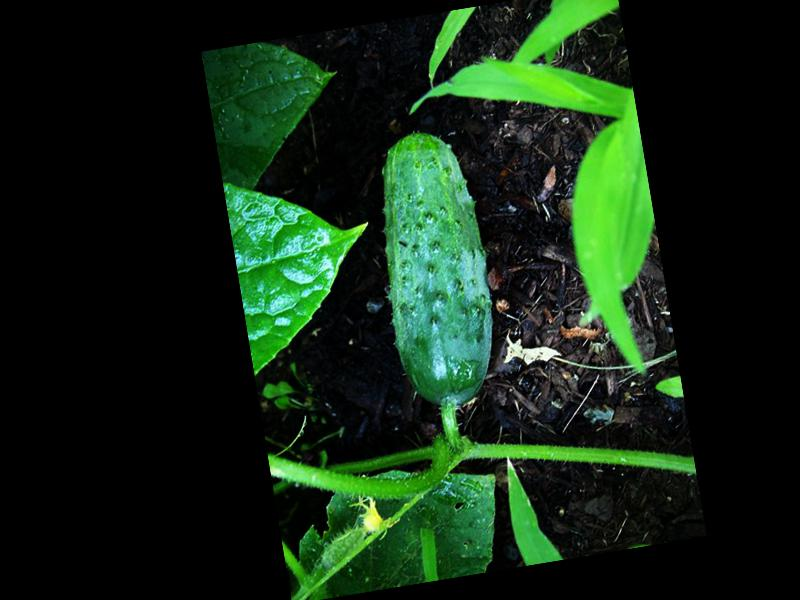Cucumber: (362, 121, 509, 413)
